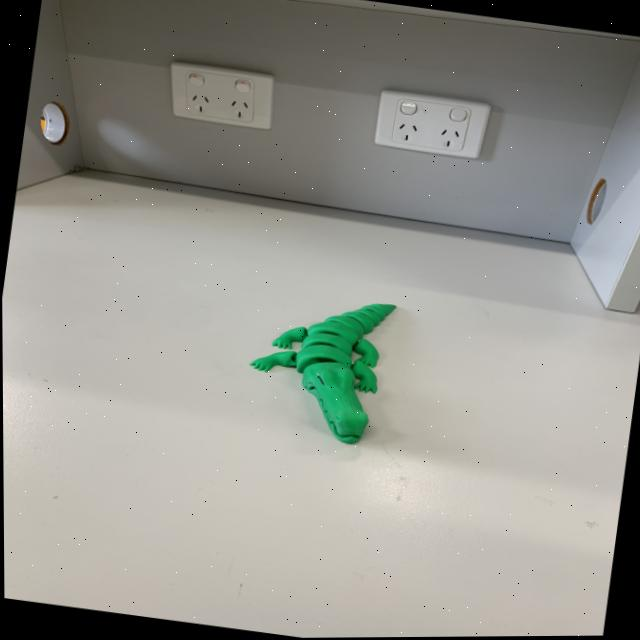crocodile: (226, 271, 419, 463)
